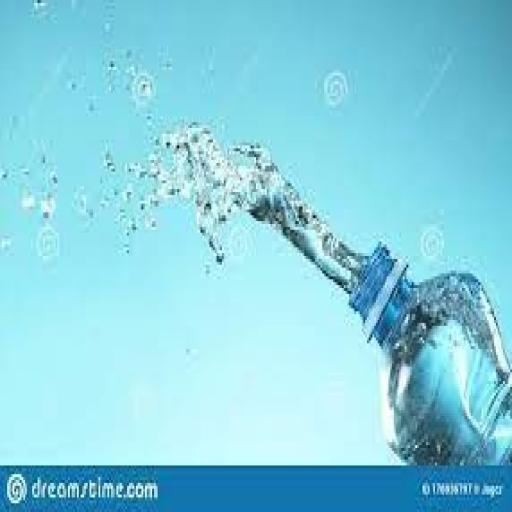bottle: (347, 228, 512, 484)
